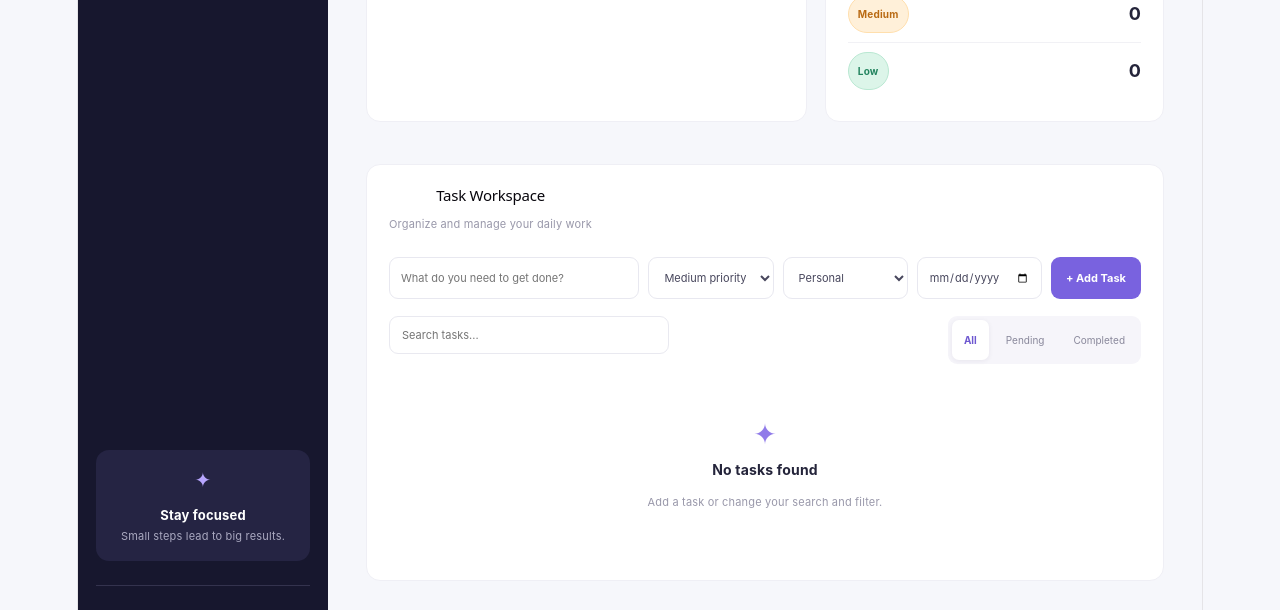
Test case: TaskOrbit Application › allows a user to undo task completion
The image size is (1280, 610).
(page scrolled)
# Add a task.
Type "Review JavaScript" into the field with placeholder "What do you need to get done?".
click(514, 278); type("Review JavaScript")  # box x1=389 y1=257 x2=639 y2=299
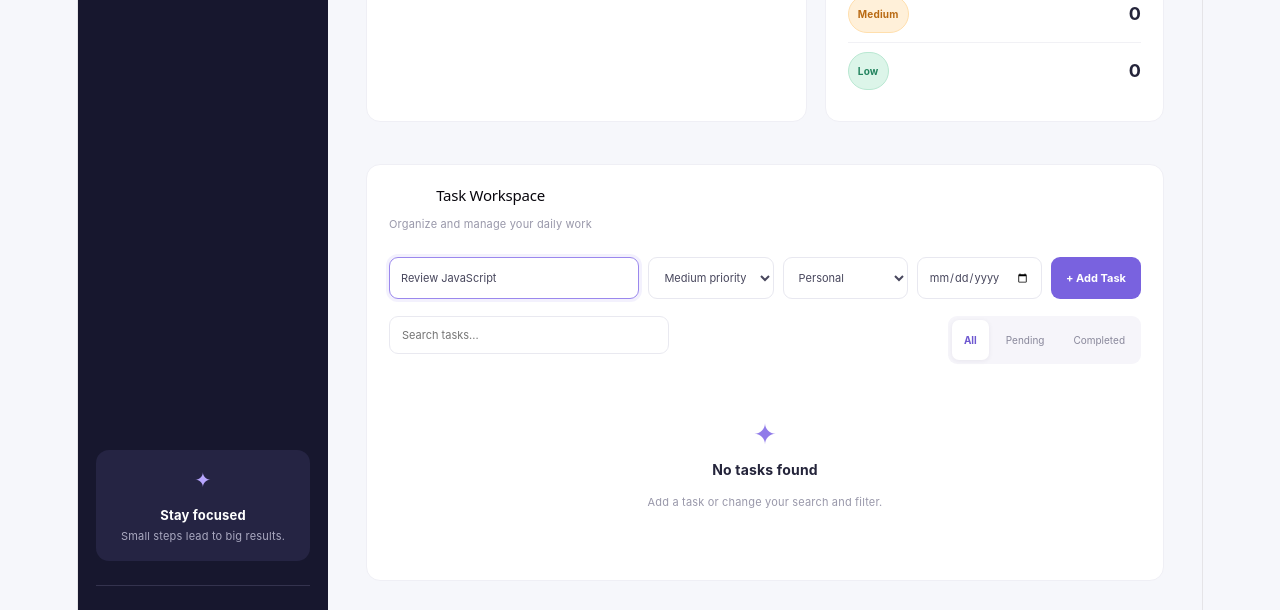
Click the button "+ Add Task".
click(1096, 278)  # box x1=1051 y1=257 x2=1141 y2=299
(page scrolled)
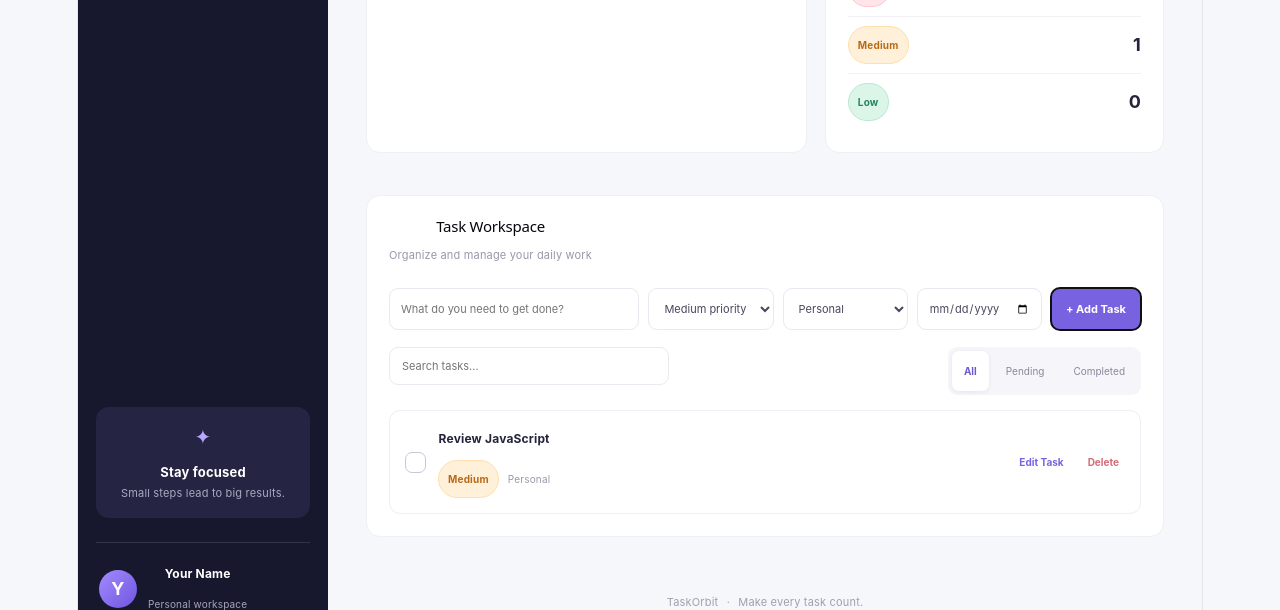
# Complete the task.
Click the button named "Mark as complete".
click(416, 462)  # box x1=405 y1=452 x2=426 y2=473
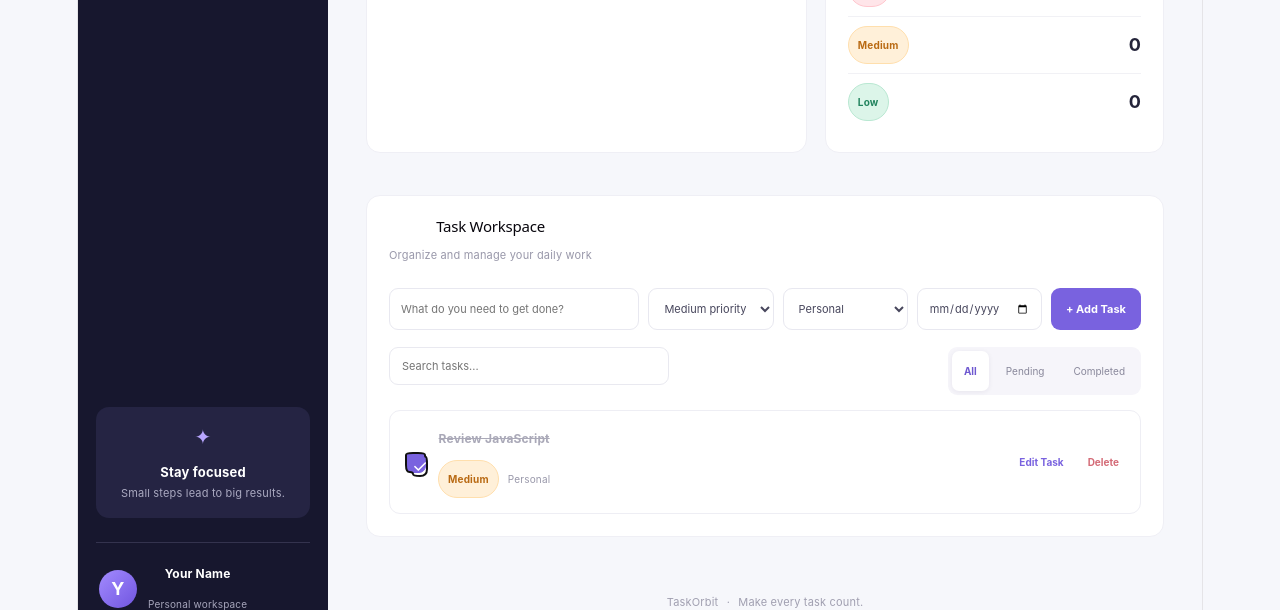
# Undo completion.
Click the button named "Mark as pending".
click(416, 462)  # box x1=405 y1=452 x2=426 y2=473
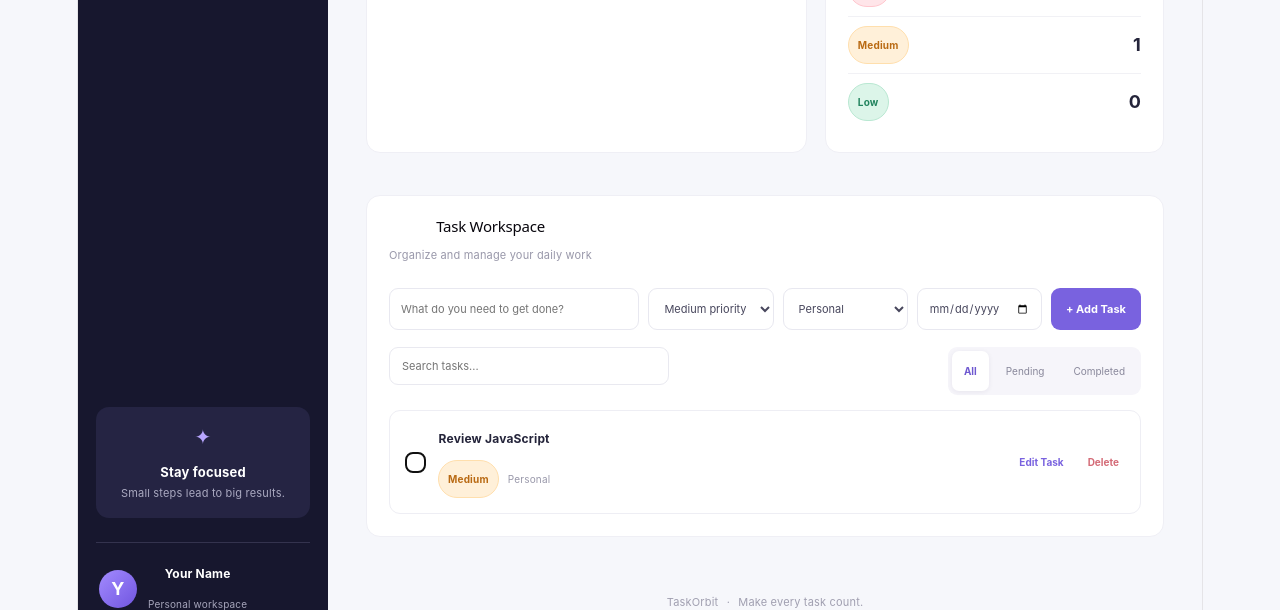
Check: the button named "Mark as complete" is shown, box x1=405 y1=452 x2=426 y2=473
